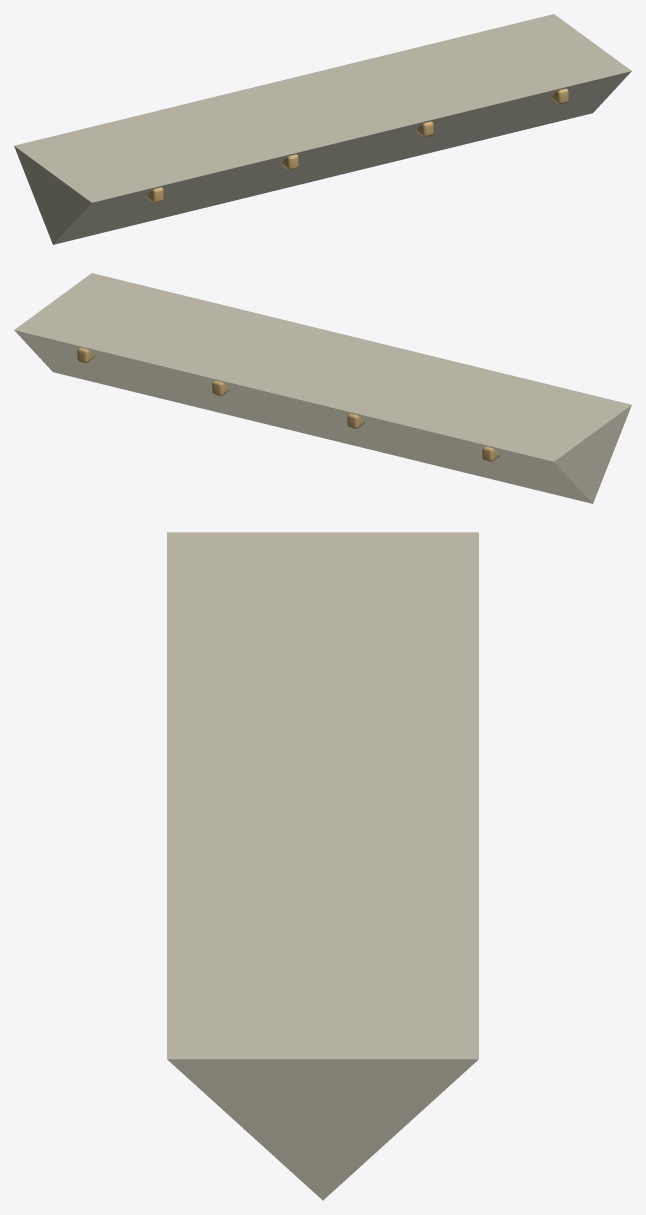
Rendered from SM_Roof_Ridge_4m.fbx.
3 views of the same model, one above another, from view 1: azimuth 30°, elevation 25°; view 2: azimuth 150°, elevation 25°; view 3: azimuth 270°, elevation 25° (orthographic). The views are drawn at different scales.
Parts seen in each view (by area): view 1: SM_Roof_Ridge_4m; view 2: SM_Roof_Ridge_4m; view 3: SM_Roof_Ridge_4m.
Boxes of the visible parts, x1,y1,x2,y2 form: SM_Roof_Ridge_4m: (14,14,631,244); SM_Roof_Ridge_4m: (14,273,631,503); SM_Roof_Ridge_4m: (167,532,478,1200).
Size of the model in its own units: 4 by 0.5 by 1.
